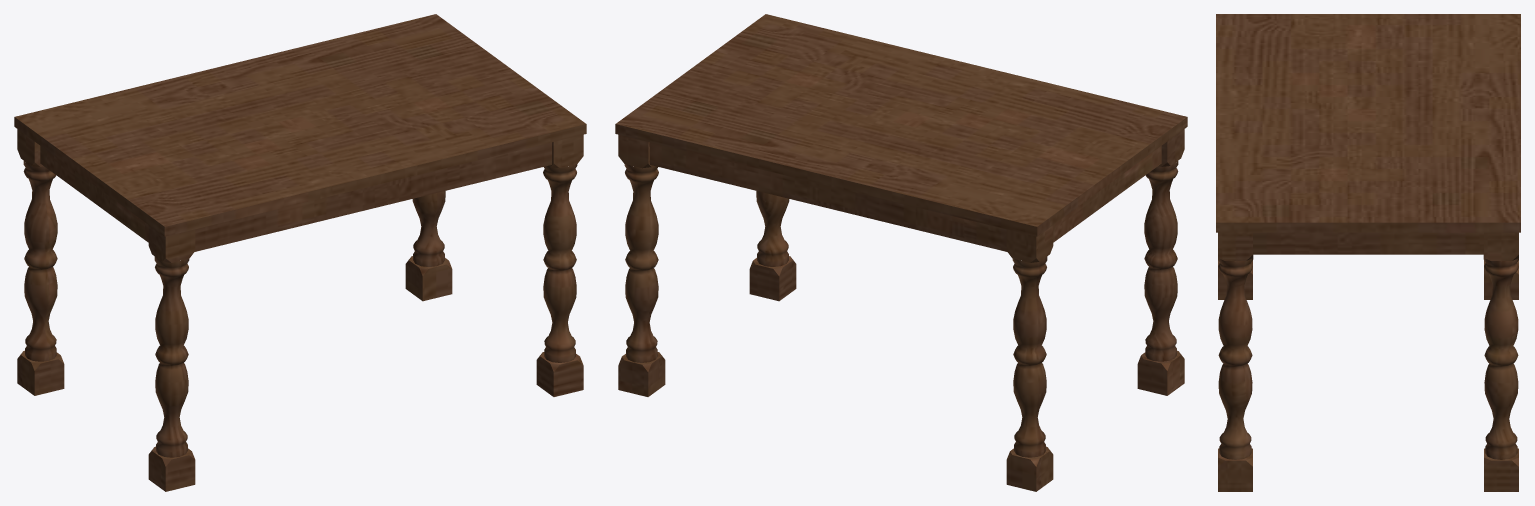
Rendered from Table15.glb.
3 views of the same model, side by side, from view 1: azimuth 30°, elevation 25°; view 2: azimuth 150°, elevation 25°; view 3: azimuth 270°, elevation 25° (orthographic).
Visible parts, largest first — view 1: Table15_model; view 2: Table15_model; view 3: Table15_model.
Part boxes in pixels (<box>): Table15_model: <box>14,14,586,491</box>; Table15_model: <box>615,14,1187,491</box>; Table15_model: <box>1216,14,1520,491</box>.
Bounding box in the file's own units: 2.64 × 1.59 × 1.63.
1 material, 1 textured.
